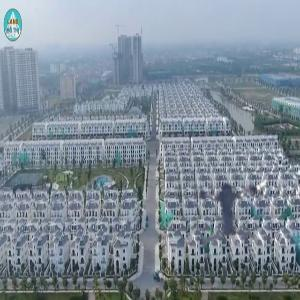drone: (176, 151, 278, 253)
